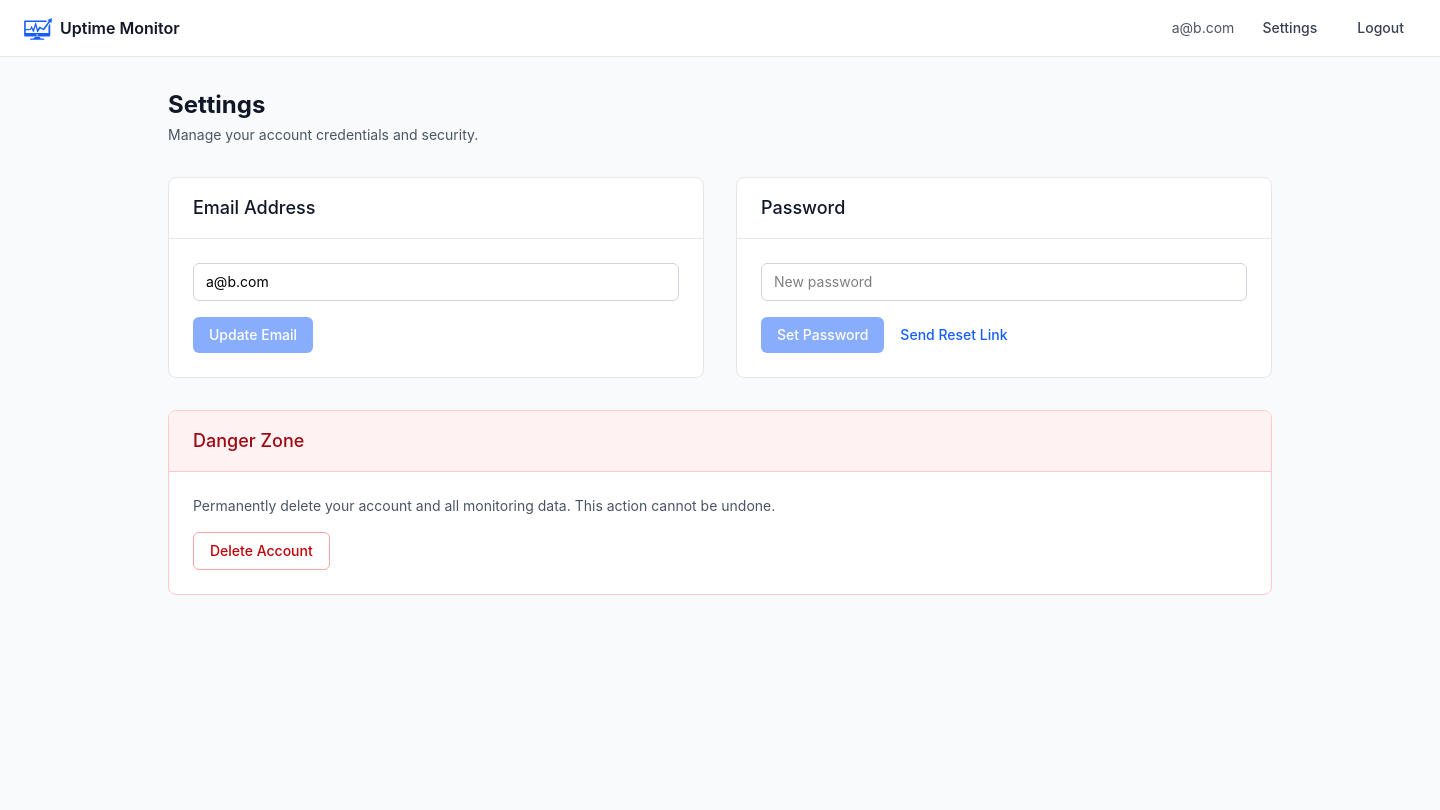
Test case: Settings › shows error when email update fails
Replace the text in the field showing "a@b.com" with "new@b.com" at [436, 282], box [193,263,679,301]
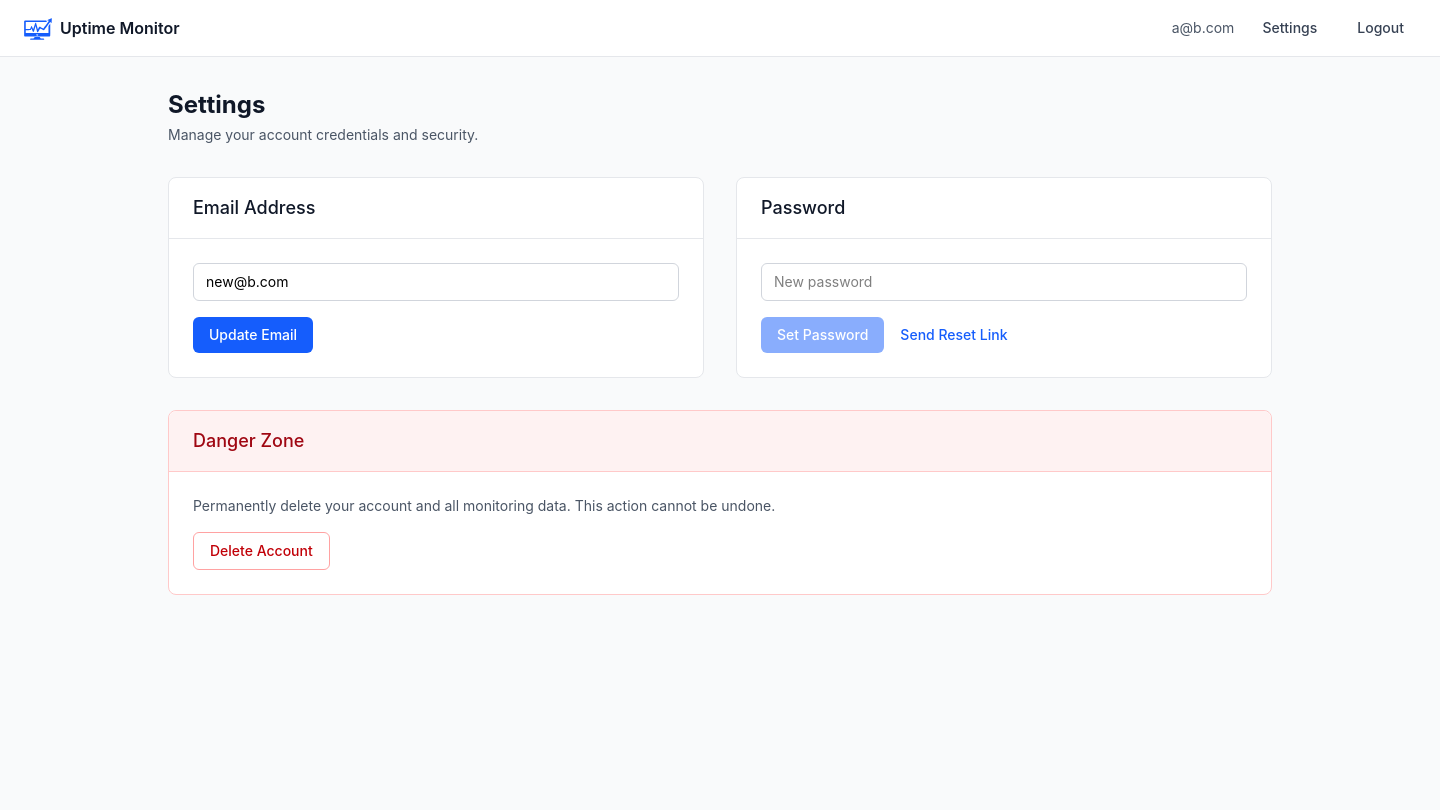
Click the button "Update Email" at [253, 335], box [193,317,313,353]
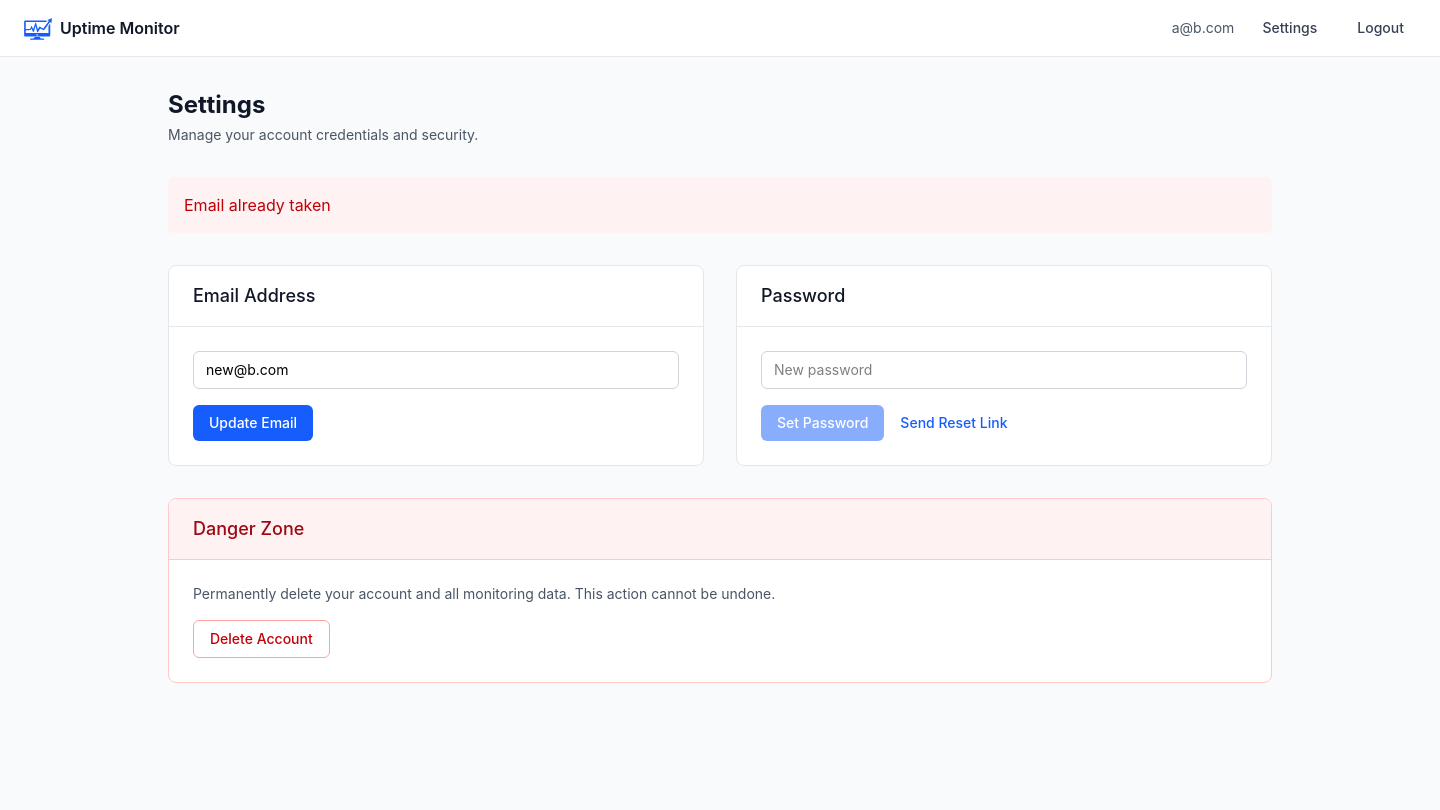
Now the text "Email already taken" is shown, box [168,177,1272,233]
